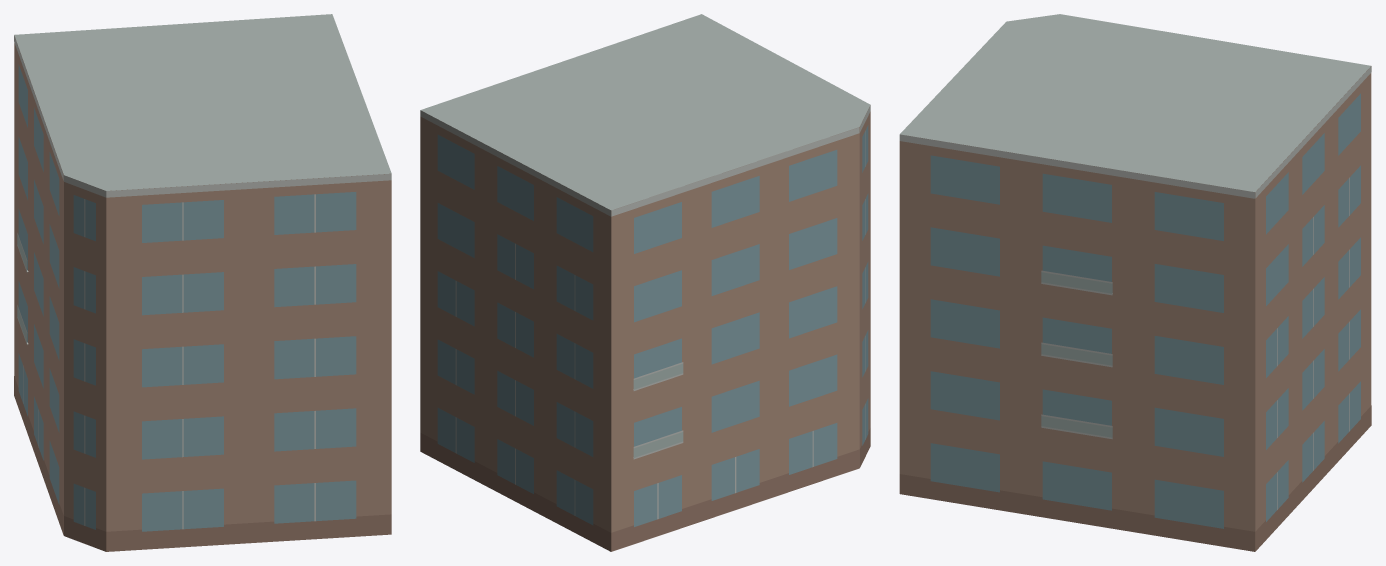
Rendered from survey-upis-32873532.glb.
3 views of the same model, side by side, from view 1: azimuth 30°, elevation 25°; view 2: azimuth 150°, elevation 25°; view 3: azimuth 270°, elevation 25° (orthographic). The views are drawn at different scales.
Parts seen in each view (by area): view 1: survey-upis-32873532.tmp; view 2: survey-upis-32873532.tmp; view 3: survey-upis-32873532.tmp.
Part boxes in pixels (box(x1,y1,x2,y2)): survey-upis-32873532.tmp: box(14, 14, 391, 551); survey-upis-32873532.tmp: box(420, 14, 870, 551); survey-upis-32873532.tmp: box(899, 14, 1371, 551).
Bounding box in the file's own units: 14.04 × 13.2 × 15.7.
